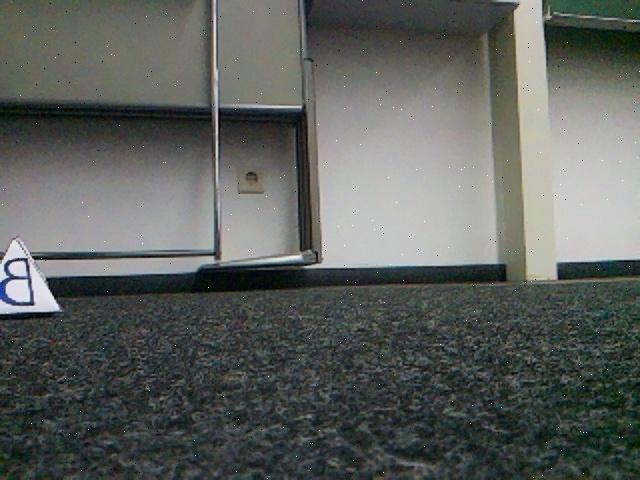B: (0, 239, 63, 315)
